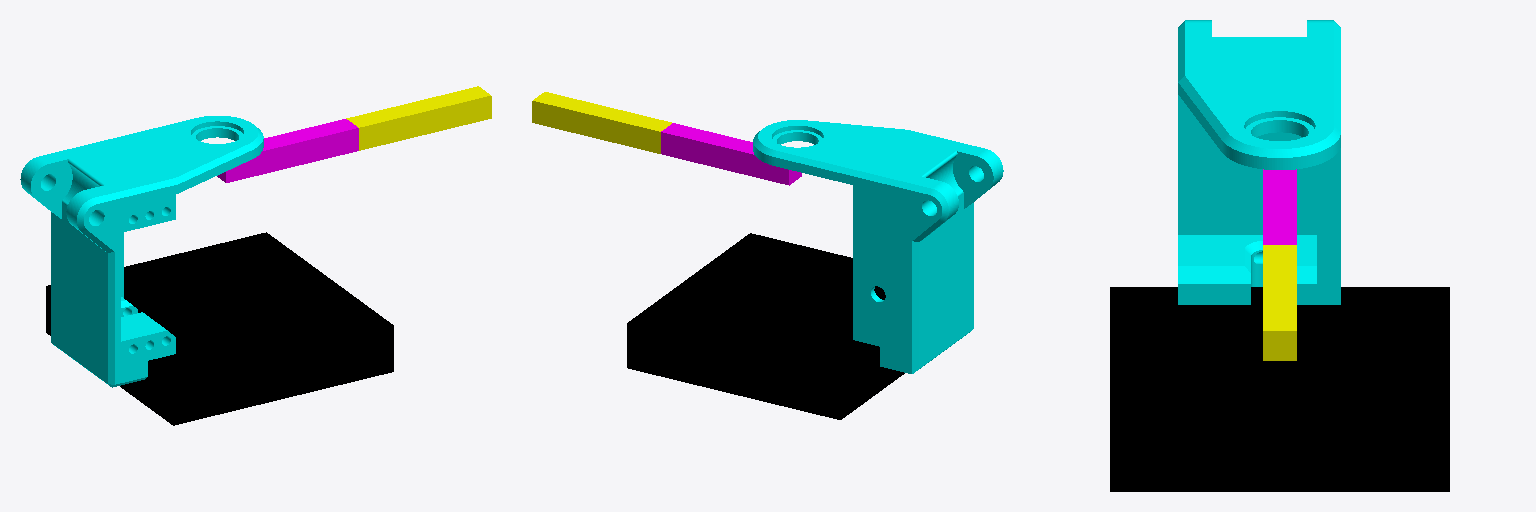
The robot description file, URDF, robot "robot":
<robot name="robot">
  <!--Descripción de los eslabones-->
  <link name="base_link">
    <visual>
      <geometry>
        <box size="0.5 0.5 0.1"/>
      </geometry>
      <origin xyz="0 0 -0.05"/>
      <material name="black">
        <color rgba="0 0 0 0.5"/>
      </material>
    </visual>
  </link>

  <link name="shoulder_link">
    <visual>
      <geometry>
        <mesh filename="cubo.stl" scale="0.010 0.010 0.010"/>
      </geometry>
      <origin xyz="-0.1 0 -0.15"/>
      <material name="cyan">
        <color rgba="0 1 1 1"/>
      </material>
    </visual>
  </link>
  <link name="arm_link">
    <visual>
      <geometry>
        <box size="0.3 0.05 0.05"/>
      </geometry>
      <origin xyz="0.15 0 0"/>
      <material name="magenta">
        <color rgba="1 0 1 1"/>
      </material>
    </visual>
  </link>
  <link name="forearm_link">
    <visual>
      <geometry>
        <box size="0.3 0.05 0.05"/>
      </geometry>
      <origin xyz="0.15 0 0"/>
      <material name="yellow">
        <color rgba="1 1 0 1"/>
      </material>
    </visual>
  </link>

  <!--Descripción de las juntas-->
  <joint name="shoulder_joint" type="revolute"> <!--tipo de junta: revolute, prismatic, fixed-->
    <parent link="base_link"/>
    <child link="shoulder_link"/>
    <axis xyz="0 0 1"/>
    <limit lower="-3.14" upper ="3.14"/>
    <origin rpy="0 0 0" xyz="0 0 0.3"/> <!--roll, pitch, yaw-->
  </joint>
  <joint name="arm_joint" type="revolute"> <!--tipo de junta: revolute, prismatic, fixed-->
    <parent link="shoulder_link"/>
    <child link="arm_link"/>
    <axis xyz="0 0 1"/>
    <limit lower="-3.14" upper ="3.14"/>
    <origin xyz="0 0 0" rpy="1.57 0 0"/>
  </joint>
  <joint name="forearm_joint" type="revolute"> <!--tipo de junta: revolute, prismatic, fixed-->
    <parent link="arm_link"/>
    <child link="forearm_link"/>
    <axis xyz="0 0 1"/>
    <limit lower="-3.14" upper ="3.14"/>
    <origin xyz="0.3 0 0"/>
  </joint>
</robot>

--- Render facts (derived) ---
Views: 3 orthographic renders of the robot side by side, from view 1: azimuth 30°, elevation 25°; view 2: azimuth 150°, elevation 25°; view 3: azimuth 270°, elevation 25°.
Robot: robot — 4 links, 3 joints (3 revolute); root link base_link; default pose: all joints at 0.
Links seen in each view (by area): view 1: base_link, shoulder_link, forearm_link, arm_link; view 2: shoulder_link, base_link, forearm_link, arm_link; view 3: base_link, shoulder_link, forearm_link, arm_link.
Boxes of the visible links, x1,y1,x2,y2 form: base_link: (46,232,393,425); shoulder_link: (20,116,263,387); forearm_link: (346,86,491,150); arm_link: (217,119,358,182); shoulder_link: (753,120,1003,373); base_link: (627,233,904,419); forearm_link: (532,92,671,153); arm_link: (661,123,801,185); base_link: (1110,287,1449,491); shoulder_link: (1178,20,1340,304); forearm_link: (1263,245,1296,360); arm_link: (1263,169,1296,244).
Size in the robot's own frame: 1.01 by 0.5 by 0.4755 metres.
1 mesh visuals loaded from 1 distinct referenced files (1 binary STL).
